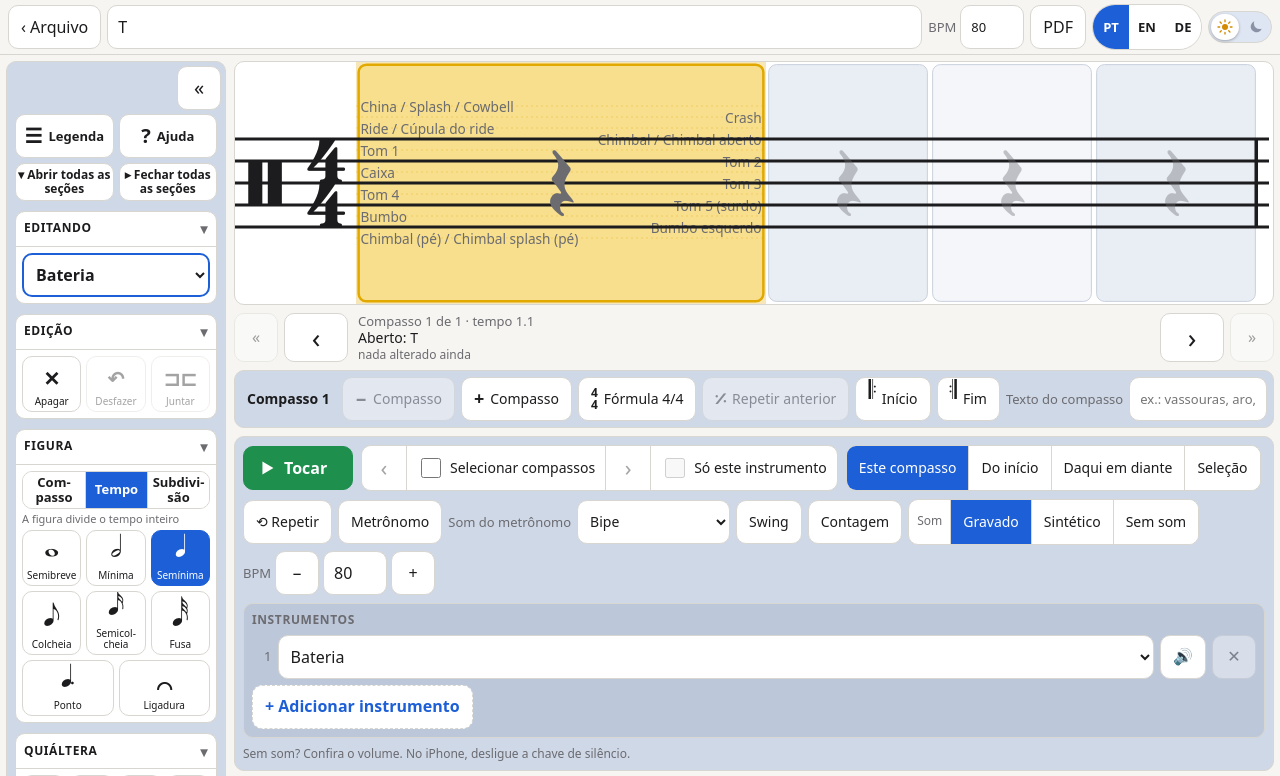
Test: metronome sound › the dropdown lists every voice, remembers the choice and says it
Step 1. Select "Bloco de madeira" in the dropdown labelled "Som do metrônomo" → (654, 522), box [577,500,730,544]
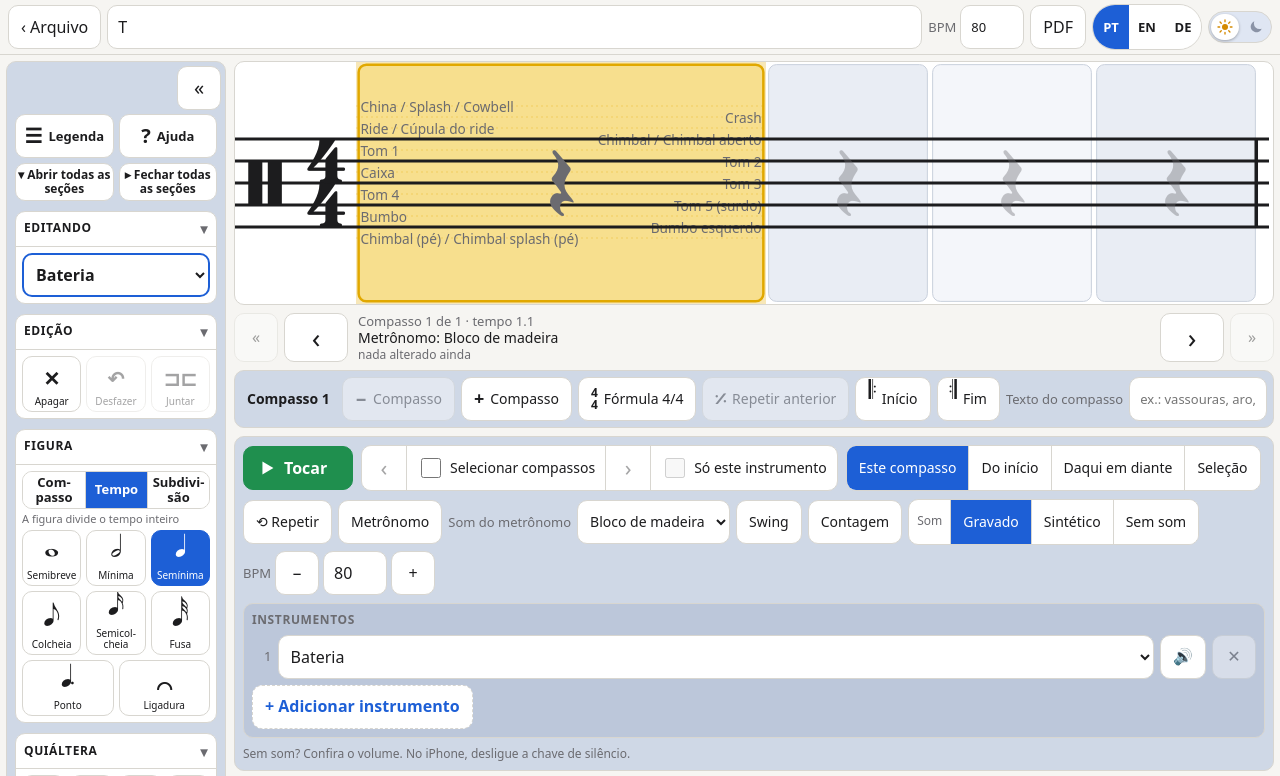
Check: the element with class "status" shows "Metrônomo: Bloco de madeira", box [358,328,558,347]
